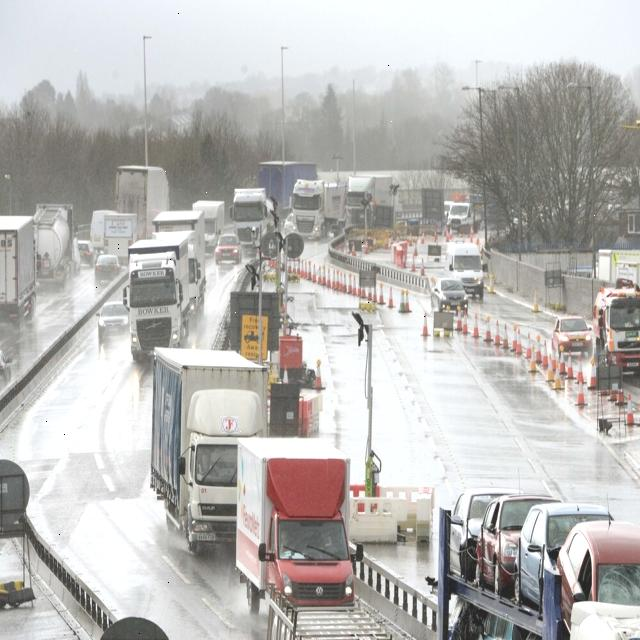Car: (518, 501, 620, 616), (491, 495, 525, 594), (448, 487, 485, 577), (552, 314, 592, 359), (96, 301, 131, 343), (432, 277, 469, 314), (90, 206, 113, 248), (214, 232, 242, 264), (94, 254, 123, 284), (504, 212, 533, 234), (77, 240, 96, 266), (0, 347, 12, 385), (282, 212, 294, 233)
Truck: (151, 353, 271, 543), (238, 428, 350, 609), (122, 214, 205, 359), (28, 191, 78, 296), (592, 283, 639, 378), (0, 204, 35, 327), (116, 164, 169, 242), (347, 175, 396, 236), (230, 187, 270, 252), (289, 178, 326, 240), (262, 154, 316, 196), (446, 241, 484, 299), (321, 181, 348, 235), (193, 198, 217, 254), (444, 201, 471, 234)
